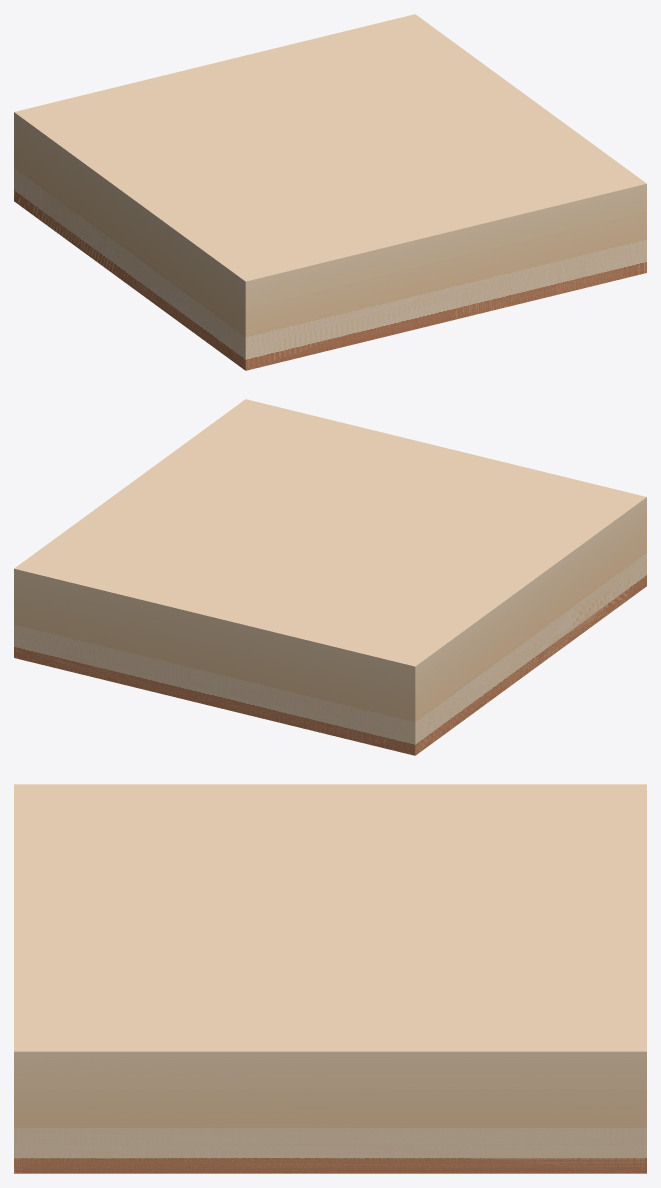
The model's file is roof-flat-detail-d.glb.
3 renders of one model, top to bottom at view 1: azimuth 30°, elevation 25°; view 2: azimuth 150°, elevation 25°; view 3: azimuth 270°, elevation 25°, orthographic. The views are drawn at different scales.
Parts seen in each view (by area): view 1: roof-flat-detail-d; view 2: roof-flat-detail-d; view 3: roof-flat-detail-d.
Boxes of the visible parts, left/top/right/bottom form: roof-flat-detail-d: left=14, top=14, right=646, bottom=370; roof-flat-detail-d: left=14, top=399, right=646, bottom=755; roof-flat-detail-d: left=14, top=784, right=646, bottom=1173.
Bounding box in the file's own units: 1 × 0.2125 × 1.
Materials: 1 (1 with a texture image).
